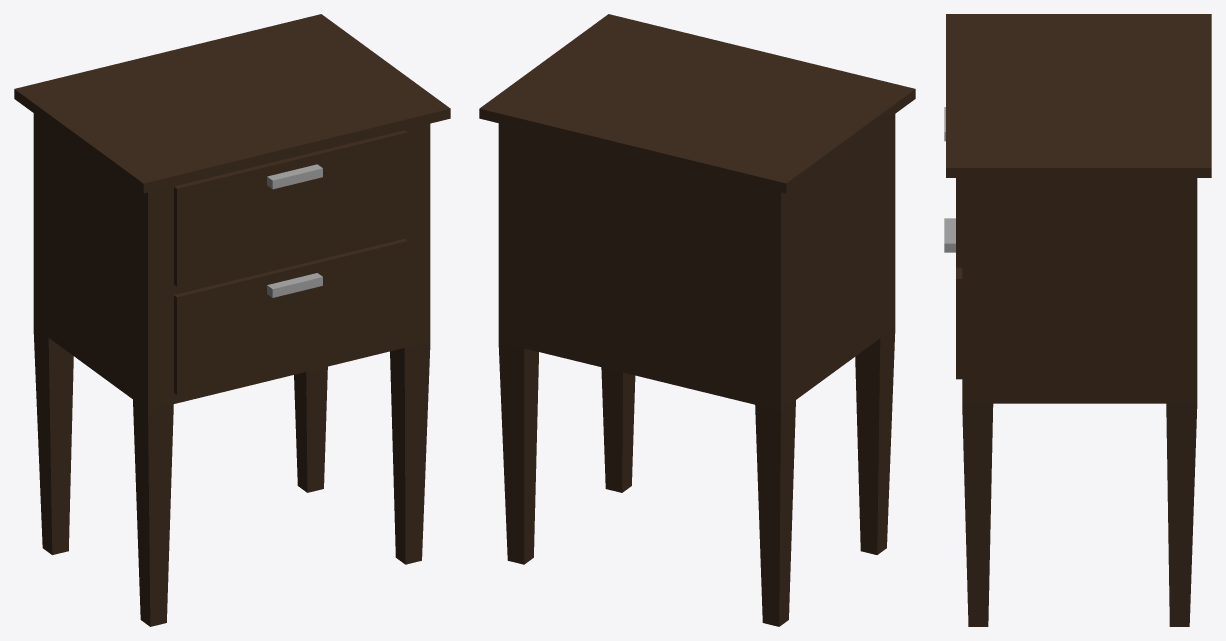
The model's file is smallchest.fbx.
3 renders of one model, left to right at view 1: azimuth 30°, elevation 25°; view 2: azimuth 150°, elevation 25°; view 3: azimuth 270°, elevation 25°, orthographic. The views are drawn at different scales.
Visible parts, largest first — view 1: chest_small; view 2: chest_small; view 3: chest_small.
Boxes of the visible parts, x1,y1,x2,y2 form: chest_small: (14,14,450,626); chest_small: (479,14,915,626); chest_small: (944,14,1211,626).
Size of the model in its own units: 2.98 by 4.22 by 2.18.
